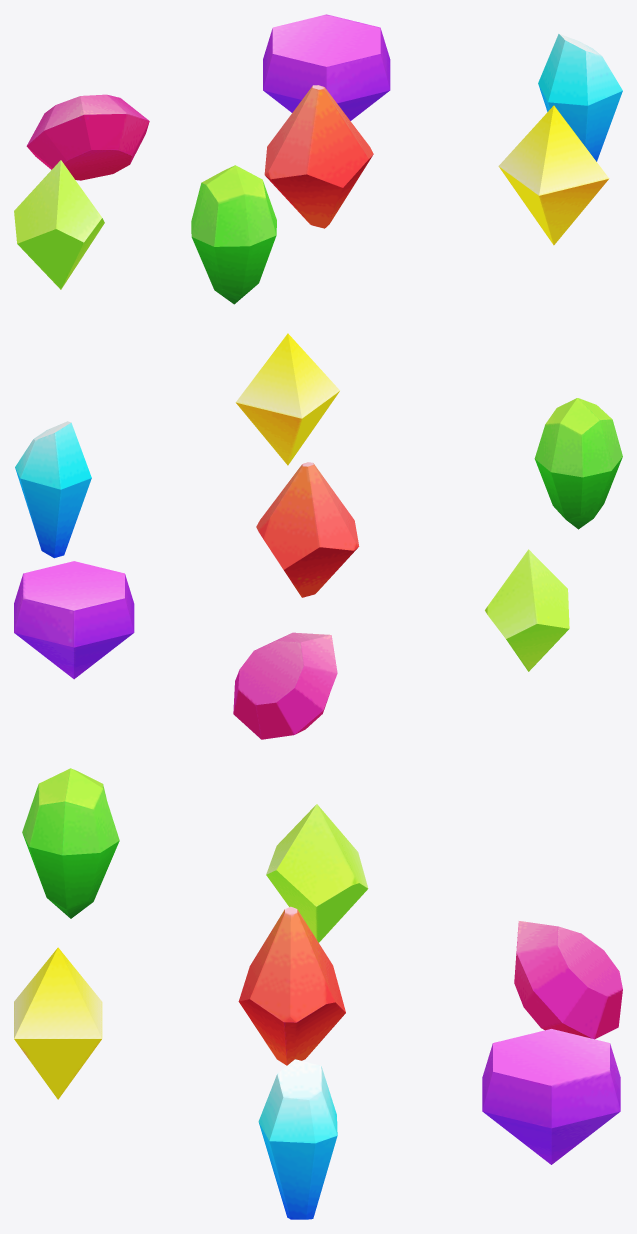
The model's file is core.glb.
3 views of the same model, one above another, from view 1: azimuth 30°, elevation 25°; view 2: azimuth 150°, elevation 25°; view 3: azimuth 270°, elevation 25° (orthographic). The views are drawn at different scales.
Parts seen in each view (by area): view 1: Object_14, Object_6, Object_16, Object_12, Object_10, Object_8, Object_4; view 2: Object_14, Object_10, Object_6, Object_16, Object_12, Object_4, Object_8; view 3: Object_14, Object_6, Object_16, Object_10, Object_4, Object_12, Object_8.
Part boxes in pixels (bbox=[...]): Object_14: bbox=[263, 14, 390, 120]; Object_6: bbox=[264, 85, 373, 228]; Object_16: bbox=[191, 165, 276, 304]; Object_12: bbox=[498, 105, 609, 245]; Object_10: bbox=[26, 94, 149, 180]; Object_8: bbox=[14, 160, 104, 289]; Object_4: bbox=[538, 34, 622, 161]; Object_14: bbox=[14, 561, 134, 679]; Object_10: bbox=[233, 632, 337, 739]; Object_6: bbox=[256, 462, 359, 597]; Object_16: bbox=[534, 398, 622, 529]; Object_12: bbox=[235, 333, 339, 465]; Object_4: bbox=[15, 421, 91, 558]; Object_8: bbox=[485, 549, 569, 671]; Object_14: bbox=[482, 1029, 620, 1164]; Object_6: bbox=[238, 906, 345, 1065]; Object_16: bbox=[22, 768, 119, 918]; Object_10: bbox=[514, 921, 622, 1039]; Object_4: bbox=[258, 1059, 337, 1219]; Object_12: bbox=[14, 947, 102, 1099]; Object_8: bbox=[266, 804, 368, 942].
Size of the model in its own units: 12.11 by 4.18 by 9.98.
1 material, 1 textured.
